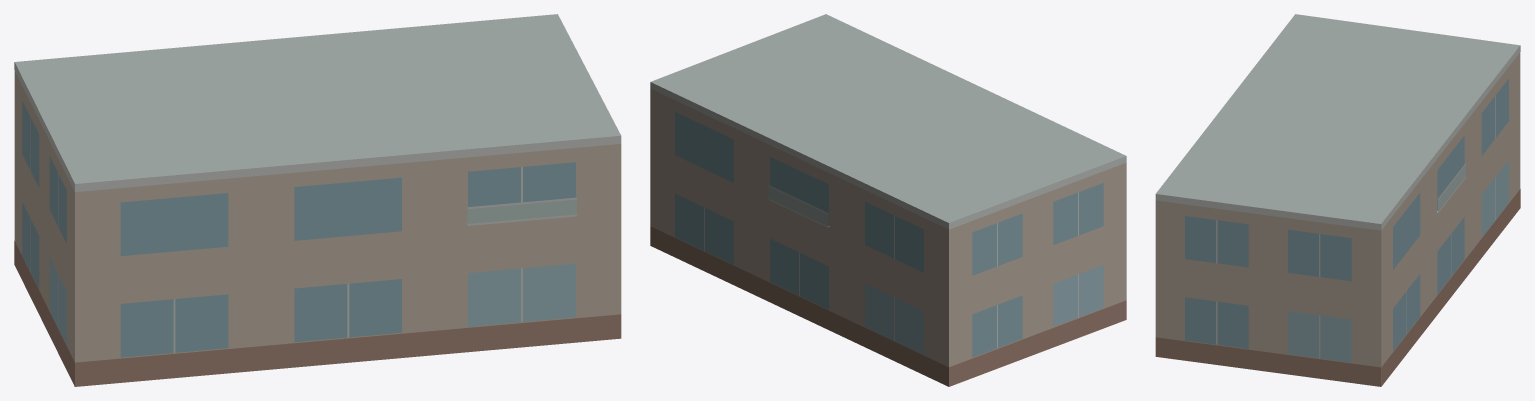
File: survey-upis-32848009.glb
3 renders of one model, left to right at view 1: azimuth 30°, elevation 25°; view 2: azimuth 150°, elevation 25°; view 3: azimuth 270°, elevation 25°, orthographic. The views are drawn at different scales.
Parts seen in each view (by area): view 1: survey-upis-32848009.tmp; view 2: survey-upis-32848009.tmp; view 3: survey-upis-32848009.tmp.
Part boxes in pixels (bbox=[...]): survey-upis-32848009.tmp: bbox=[14, 14, 621, 386]; survey-upis-32848009.tmp: bbox=[650, 14, 1126, 386]; survey-upis-32848009.tmp: bbox=[1155, 14, 1520, 386].
Bounding box in the file's own units: 16.89 × 6.1 × 12.4.
